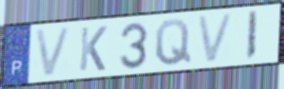3: (118, 21, 150, 71)
I: (244, 8, 260, 62)
K: (77, 25, 109, 73)
Q: (154, 17, 194, 68)
V: (33, 24, 74, 80), (195, 11, 236, 66)
